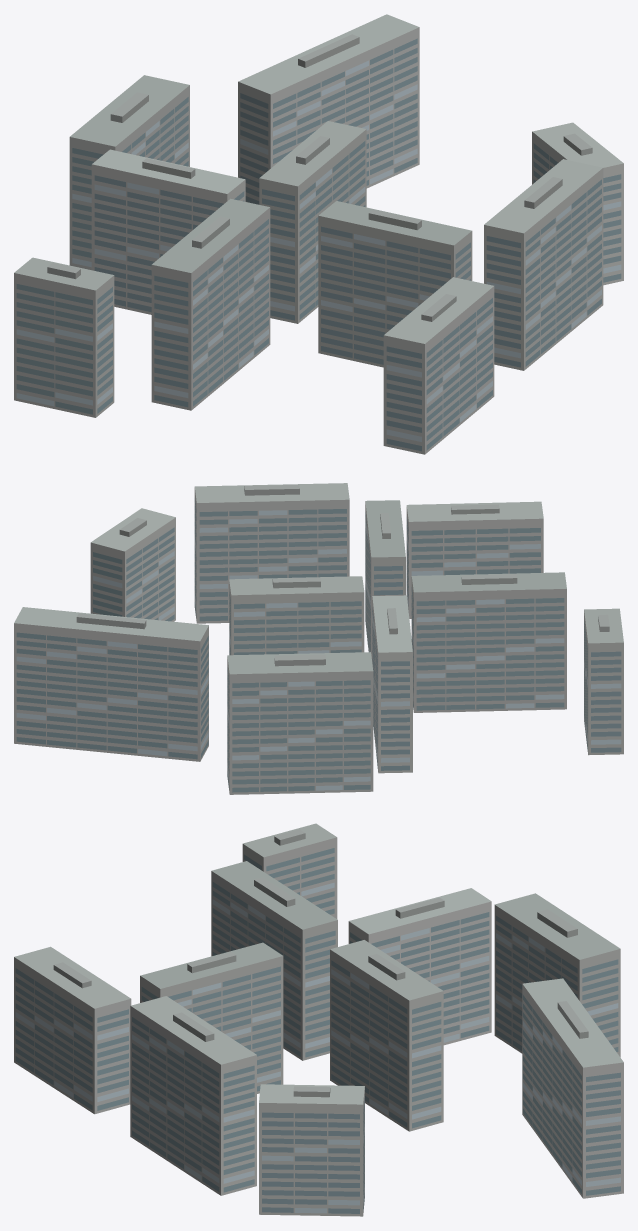
Rendered from residual-dmc-raemian-e-pyeonhansesang-apt-a12012101.glb.
3 renders of one model, top to bottom at view 1: azimuth 30°, elevation 25°; view 2: azimuth 150°, elevation 25°; view 3: azimuth 270°, elevation 25°, orthographic. The views are drawn at different scales.
Visible parts, largest first — view 1: residual-dmc-raemian-e-pyeonhansesang-apt-a12012101; view 2: residual-dmc-raemian-e-pyeonhansesang-apt-a12012101; view 3: residual-dmc-raemian-e-pyeonhansesang-apt-a12012101.
Boxes of the visible parts, x1,y1,x2,y2 form: residual-dmc-raemian-e-pyeonhansesang-apt-a12012101: (14,14,623,454); residual-dmc-raemian-e-pyeonhansesang-apt-a12012101: (14,483,623,794); residual-dmc-raemian-e-pyeonhansesang-apt-a12012101: (14,823,623,1216).
Size of the model in its own units: 174 by 41 by 165.
